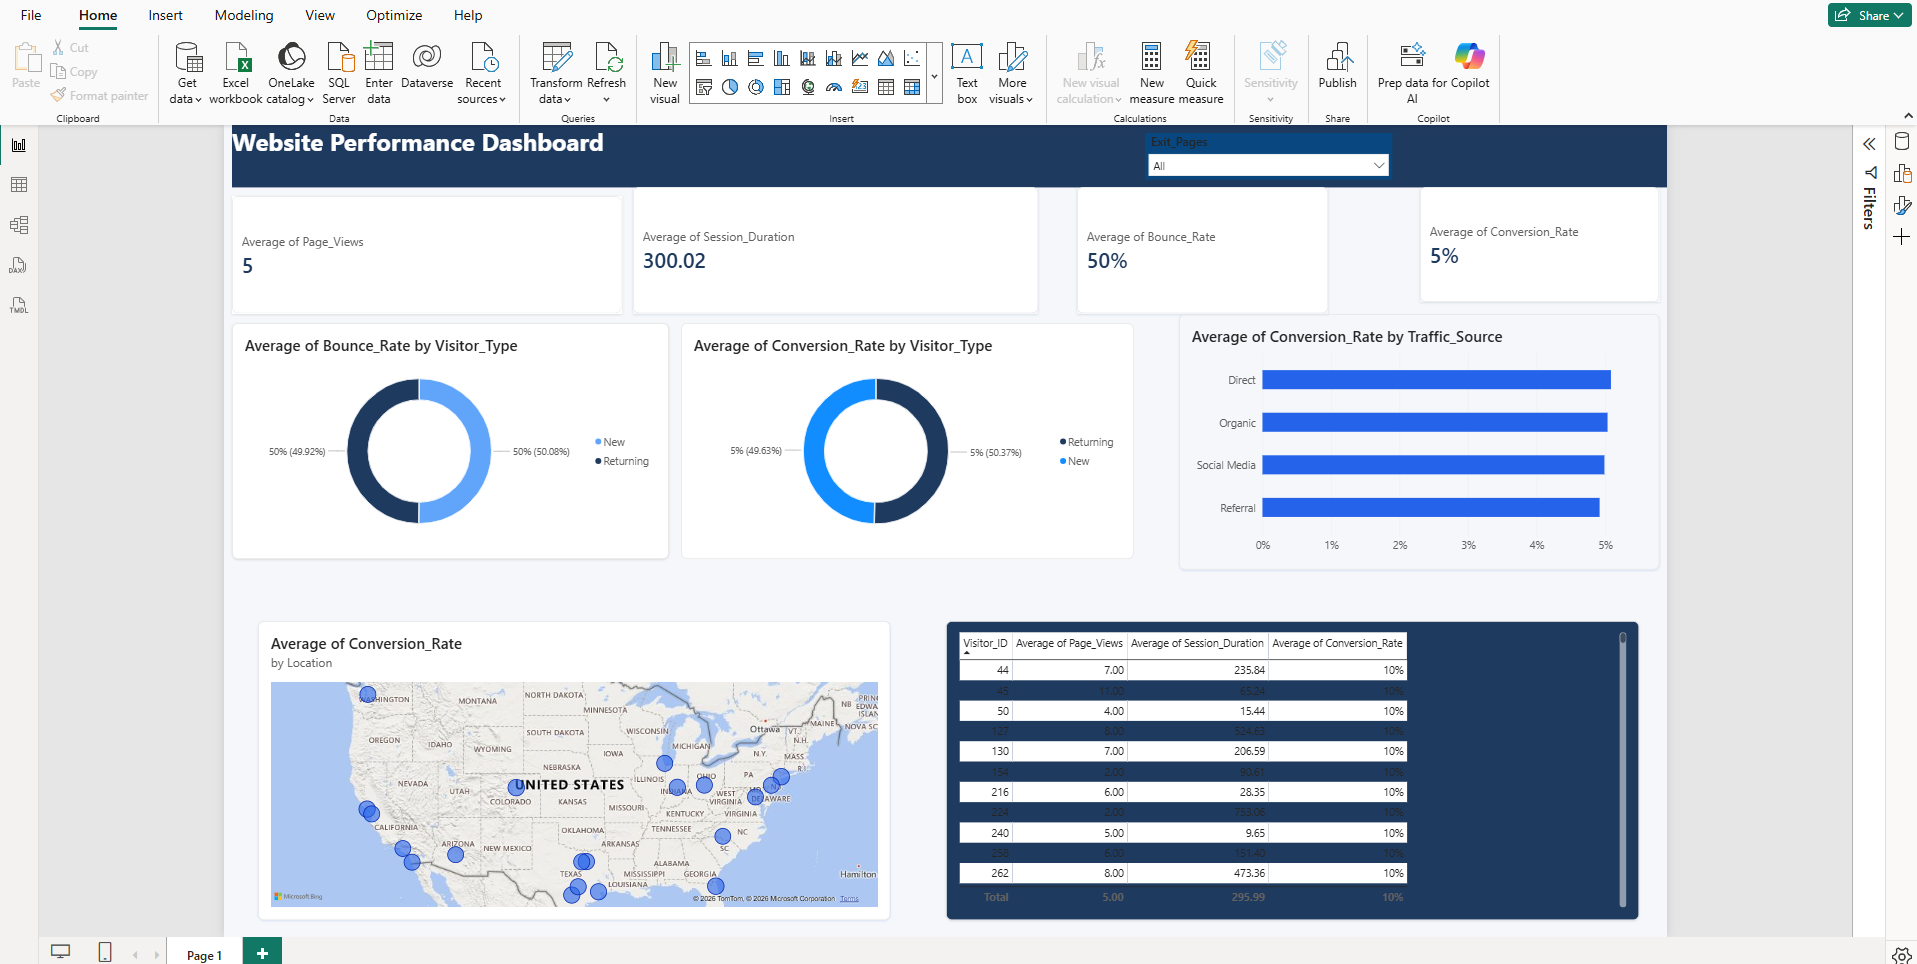

Layout of this report page (visuals, bound fields, positions):
{"tool":"powerbi","page":{"name":"Page 1","canvas":[1920,1080],"ordinal":0},"visuals":[{"type":"textbox","box":[10.3,0,1909.7,82.7],"z":0},{"type":"cardVisual","fields":{"Data":["Avg(website_performance_analytics.Page_Views)"]},"box":[10.3,94.8,518.8,156.8],"z":1000},{"type":"slicer","fields":{"Values":["website_performance_analytics.Exit_Pages"]},"box":[1225.4,10.3,329.2,62],"z":2000},{"type":"cardVisual","fields":{"Data":["Avg(website_performance_analytics.Session_Duration)"]},"box":[544.6,82.7,539.5,168.9],"z":3000},{"type":"cardVisual","fields":{"Data":["Avg(website_performance_analytics.Bounce_Rate)"]},"box":[1134.1,82.7,334.4,168.9],"z":4000},{"type":"cardVisual","fields":{"Data":["Avg(website_performance_analytics.Conversion_Rate)"]},"box":[1590.8,82.7,318.9,153.4],"z":5000},{"type":"donutChart","fields":{"Category":["website_performance_analytics.Visitor_Type"],"Y":["Avg(website_performance_analytics.Bounce_Rate)"]},"box":[10.3,263.7,580.8,313.7],"z":6000},{"type":"donutChart","fields":{"Category":["website_performance_analytics.Visitor_Type"],"Y":["Avg(website_performance_analytics.Conversion_Rate)"]},"box":[608.4,263.7,601.5,313.7],"z":7000},{"type":"clusteredBarChart","fields":{"Category":["website_performance_analytics.Traffic_Source"],"Y":["Avg(website_performance_analytics.Conversion_Rate)"]},"box":[1270.2,251.6,639.4,339.5],"z":8000},{"type":"map","fields":{"Category":["website_performance_analytics.Location"],"Size":["Avg(website_performance_analytics.Conversion_Rate)"]},"box":[44.8,660.1,841.1,398.1],"z":9000},{"type":"tableEx","fields":{"Values":["website_performance_analytics.Visitor_ID","Avg(website_performance_analytics.Page_Views)","Avg(website_performance_analytics.Session_Duration)","Avg(website_performance_analytics.Conversion_Rate)"]},"box":[960,660.1,922.1,398.1],"z":10000}]}

Visuals, with their boxes on the page's 1920x1080 design canvas (x1, y1, x2, y2). These are canvas units, not pixel positions in the 1917x964 screenshot, which may show the page scaled, cropped or inside an application window:
textbox: l=10, t=0, r=1920, b=83
cardVisual - Avg(website_performance_analytics.Page_Views): l=10, t=95, r=529, b=252
slicer - website_performance_analytics.Exit_Pages: l=1225, t=10, r=1555, b=72
cardVisual - Avg(website_performance_analytics.Session_Duration): l=545, t=83, r=1084, b=252
cardVisual - Avg(website_performance_analytics.Bounce_Rate): l=1134, t=83, r=1468, b=252
cardVisual - Avg(website_performance_analytics.Conversion_Rate): l=1591, t=83, r=1910, b=236
donutChart - website_performance_analytics.Visitor_Type x Avg(website_performance_analytics.Bounce_Rate): l=10, t=264, r=591, b=577
donutChart - website_performance_analytics.Visitor_Type x Avg(website_performance_analytics.Conversion_Rate): l=608, t=264, r=1210, b=577
clusteredBarChart - website_performance_analytics.Traffic_Source x Avg(website_performance_analytics.Conversion_Rate): l=1270, t=252, r=1910, b=591
map - website_performance_analytics.Location x Avg(website_performance_analytics.Conversion_Rate): l=45, t=660, r=886, b=1058
tableEx - website_performance_analytics.Visitor_ID x Avg(website_performance_analytics.Page_Views): l=960, t=660, r=1882, b=1058
